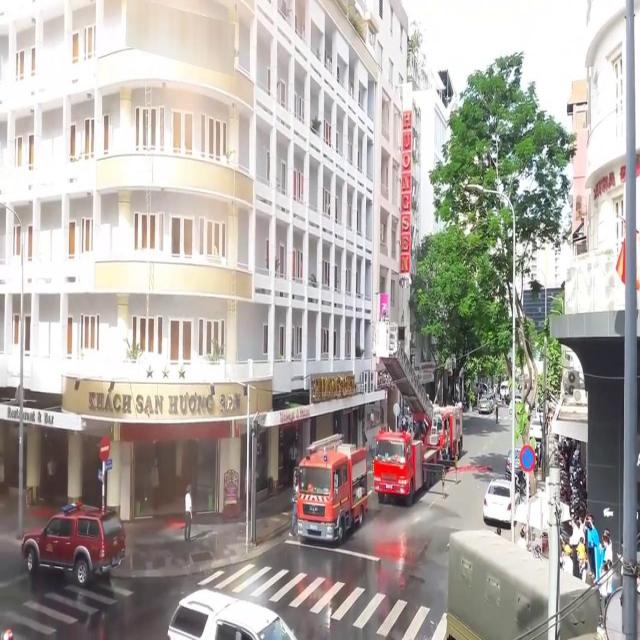car: (20, 507, 124, 588), (169, 588, 296, 640), (482, 477, 518, 527), (506, 446, 524, 476)
truck: (447, 527, 601, 640), (294, 430, 368, 542), (374, 402, 438, 500), (427, 402, 461, 471)
